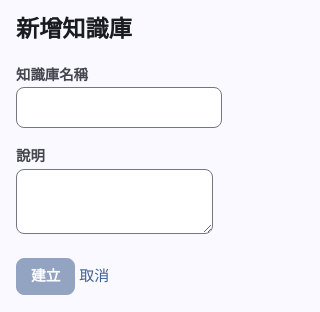
Test: NewKnowledgeBasePage (E05-S003) › enables the submit button once a name is entered
Type "研發部門知識庫" into the field labelled "知識庫名稱" at coordinates (119, 108), box [16, 88, 222, 128]
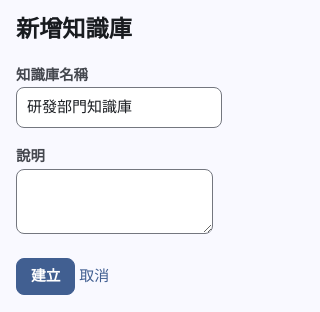
expect the button "建立" is enabled: met, box [16, 258, 76, 294]
